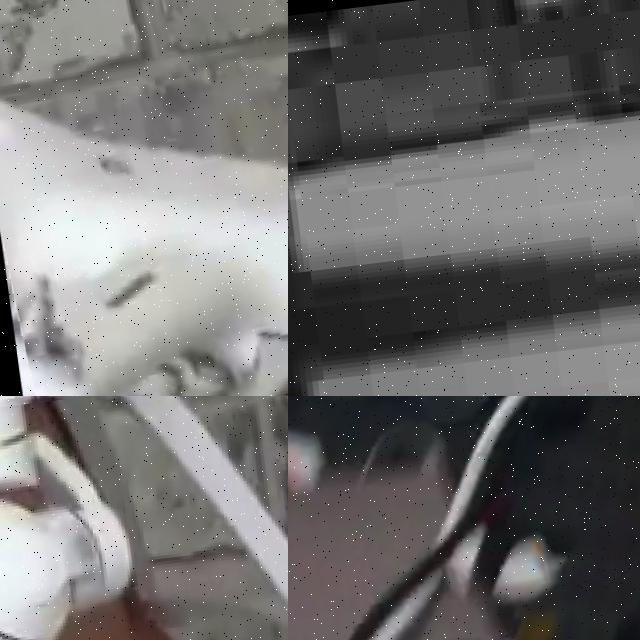drone: (0, 0, 288, 396), (288, 396, 640, 640), (0, 396, 288, 447)
